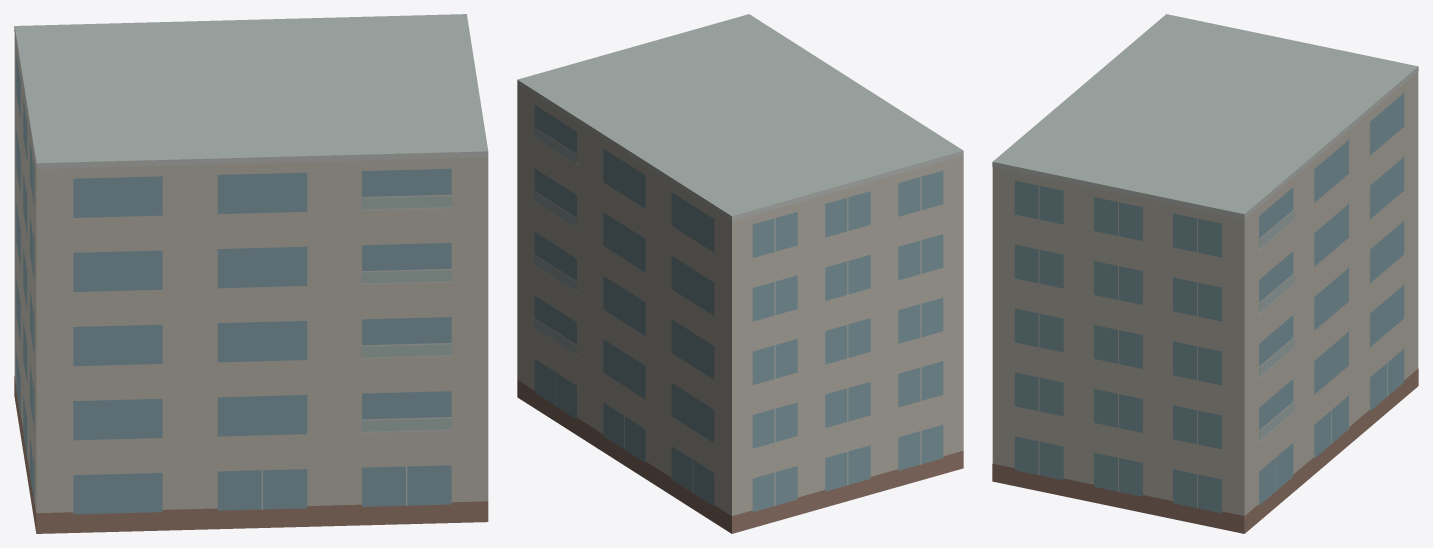
Rendered from survey-upis-32882495.glb.
3 views of the same model, side by side, from view 1: azimuth 30°, elevation 25°; view 2: azimuth 150°, elevation 25°; view 3: azimuth 270°, elevation 25° (orthographic). The views are drawn at different scales.
Parts seen in each view (by area): view 1: survey-upis-32882495.tmp; view 2: survey-upis-32882495.tmp; view 3: survey-upis-32882495.tmp.
Part boxes in pixels (x1=…): survey-upis-32882495.tmp: x1=14, y1=14, x2=488, y2=533; survey-upis-32882495.tmp: x1=517, y1=14, x2=963, y2=533; survey-upis-32882495.tmp: x1=992, y1=14, x2=1418, y2=533.
Bounding box in the file's own units: 20.49 × 15.25 × 18.43.
